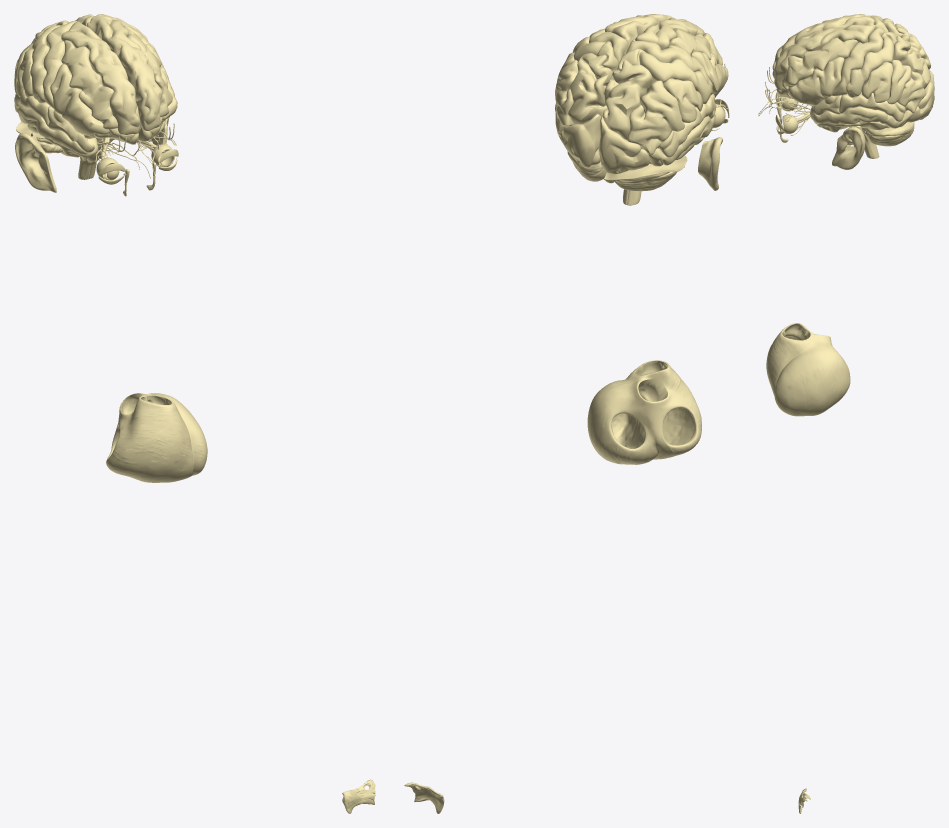
File: nervous.glb
3 renders of one model, left to right at view 1: azimuth 30°, elevation 25°; view 2: azimuth 150°, elevation 25°; view 3: azimuth 270°, elevation 25°, orthographic. The views are drawn at different scales.
Visible parts, largest first — view 1: FMA13884_Wall_of_ventricle, FMA72653_Right_superior_frontal_gyrus, FMA72654_Left_superior_frontal_gyrus, FMA72655_Right_middle_frontal_gyrus, FMA72657_Right_inferior_frontal_gyrus, FMA52781_External_ear, FMA72661_Right_precentral_gyrus, FMA72665_Right_postcentral_gyrus, FMA72685_Right_middle_temporal_gyrus, FMA72656_Left_middle_frontal_gyrus, FMA72800_Anterior_part_of_right_superior_temporal_gyrus, FMA40121_Flexor_retinaculum_of_left_wrist; view 2: FMA13884_Wall_of_ventricle, FMA72669_Right_angular_gyrus, FMA72671_Right_superior_parietal_lobule, FMA72672_Left_superior_parietal_lobule, FMA72975_Right_occipital_lobe, FMA72665_Right_postcentral_gyrus, FMA72976_Left_occipital_lobe, FMA67944_Cerebellum, FMA72653_Right_superior_frontal_gyrus, FMA72670_Left_angular_gyrus, FMA72667_Right_supramarginal_gyrus, FMA72661_Right_precentral_gyrus (+8 smaller); view 3: FMA13884_Wall_of_ventricle, FMA72654_Left_superior_frontal_gyrus, FMA72656_Left_middle_frontal_gyrus, FMA72658_Left_inferior_frontal_gyrus, FMA72670_Left_angular_gyrus, FMA72686_Left_middle_temporal_gyrus, FMA72666_Left_postcentral_gyrus, FMA72662_Left_precentral_gyrus, FMA52781_External_ear, FMA72653_Right_superior_frontal_gyrus, FMA72668_Left_supramarginal_gyrus, FMA72672_Left_superior_parietal_lobule (+6 smaller).
Part boxes in pixels (bbox=[...]): FMA13884_Wall_of_ventricle: bbox=[106, 393, 207, 482]; FMA72653_Right_superior_frontal_gyrus: bbox=[61, 21, 140, 134]; FMA72654_Left_superior_frontal_gyrus: bbox=[87, 17, 162, 130]; FMA72655_Right_middle_frontal_gyrus: bbox=[61, 40, 117, 129]; FMA72657_Right_inferior_frontal_gyrus: bbox=[50, 64, 109, 135]; FMA52781_External_ear: bbox=[15, 117, 169, 192]; FMA72661_Right_precentral_gyrus: bbox=[42, 21, 77, 109]; FMA72665_Right_postcentral_gyrus: bbox=[30, 20, 68, 102]; FMA72685_Right_middle_temporal_gyrus: bbox=[18, 106, 87, 154]; FMA72656_Left_middle_frontal_gyrus: bbox=[124, 26, 172, 117]; FMA72800_Anterior_part_of_right_superior_temporal_gyrus: bbox=[47, 106, 94, 152]; FMA40121_Flexor_retinaculum_of_left_wrist: bbox=[342, 779, 375, 813]; FMA13884_Wall_of_ventricle: bbox=[587, 360, 701, 464]; FMA72669_Right_angular_gyrus: bbox=[627, 80, 684, 154]; FMA72671_Right_superior_parietal_lobule: bbox=[603, 60, 653, 139]; FMA72672_Left_superior_parietal_lobule: bbox=[568, 53, 612, 124]; FMA72975_Right_occipital_lobe: bbox=[598, 115, 649, 174]; FMA72665_Right_postcentral_gyrus: bbox=[618, 48, 711, 103]; FMA72976_Left_occipital_lobe: bbox=[560, 114, 601, 167]; FMA67944_Cerebellum: bbox=[567, 151, 676, 191]; FMA72653_Right_superior_frontal_gyrus: bbox=[632, 17, 704, 49]; FMA72670_Left_angular_gyrus: bbox=[555, 60, 578, 132]; FMA72667_Right_supramarginal_gyrus: bbox=[663, 78, 702, 122]; FMA72661_Right_precentral_gyrus: bbox=[626, 41, 713, 94]; FMA13884_Wall_of_ventricle: bbox=[766, 323, 850, 416]; FMA72654_Left_superior_frontal_gyrus: bbox=[772, 24, 874, 89]; FMA72656_Left_middle_frontal_gyrus: bbox=[782, 37, 857, 90]; FMA72658_Left_inferior_frontal_gyrus: bbox=[787, 57, 844, 105]; FMA72670_Left_angular_gyrus: bbox=[887, 60, 926, 112]; FMA72686_Left_middle_temporal_gyrus: bbox=[813, 106, 912, 128]; FMA72666_Left_postcentral_gyrus: bbox=[846, 32, 897, 97]; FMA72662_Left_precentral_gyrus: bbox=[832, 27, 884, 96]; FMA52781_External_ear: bbox=[832, 126, 865, 169]; FMA72653_Right_superior_frontal_gyrus: bbox=[772, 14, 875, 70]; FMA72668_Left_supramarginal_gyrus: bbox=[861, 62, 893, 102]; FMA72672_Left_superior_parietal_lobule: bbox=[891, 36, 930, 88].
Size of the model in its own units: 0.3554 by 0.851 by 0.1958.
